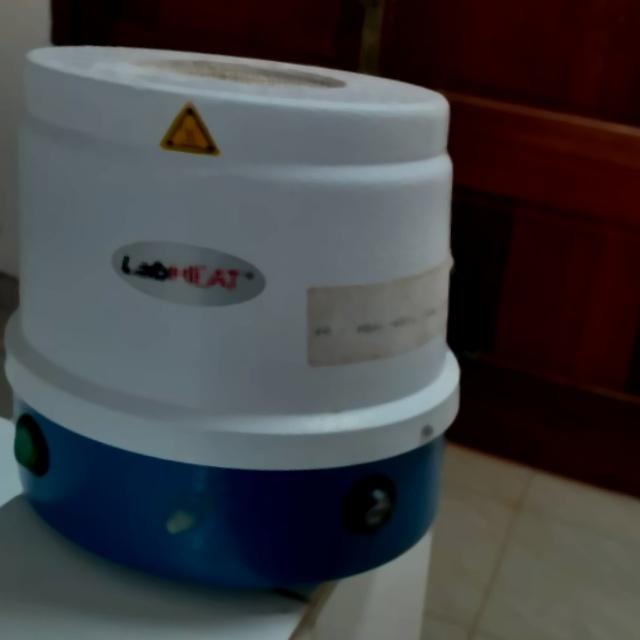Heating Source: (0, 34, 486, 627)
